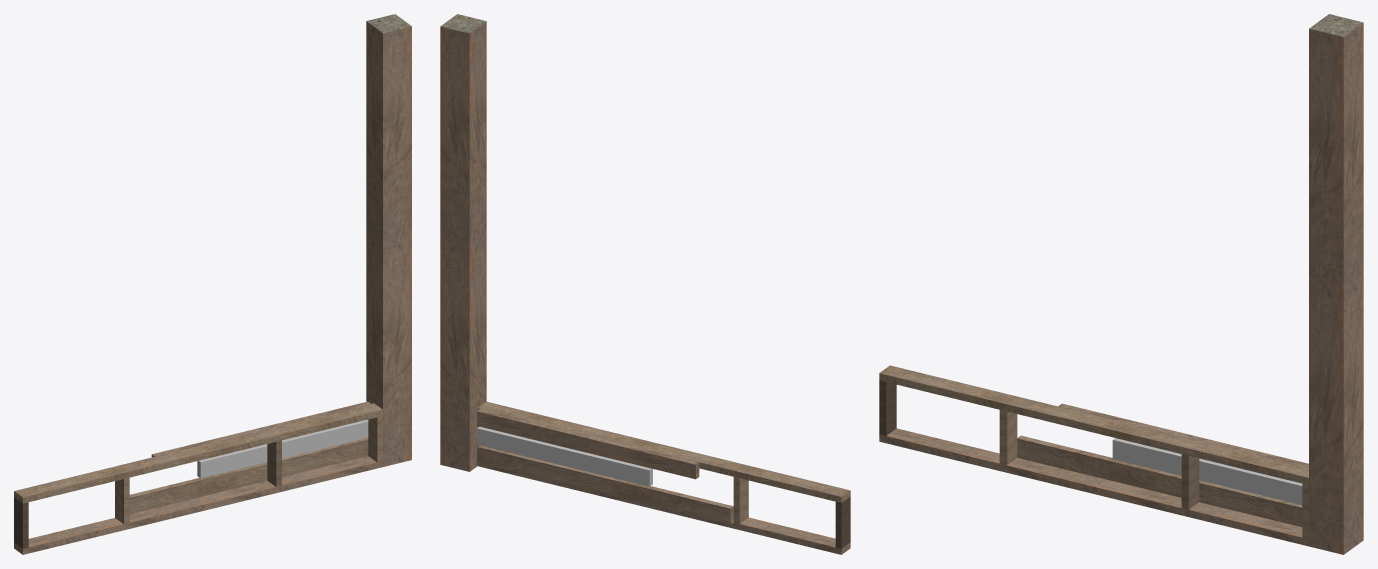
The model's file is WallFloorDividerDestroyA.fbx.
The picture shows the model from 3 angles, left to right: view 1: azimuth 30°, elevation 25°; view 2: azimuth 150°, elevation 25°; view 3: azimuth 330°, elevation 25°; orthographic projection. The views are drawn at different scales.
Parts seen in each view (by area): view 1: WallFloorDividerDestroyA; view 2: WallFloorDividerDestroyA; view 3: WallFloorDividerDestroyA.
Boxes of the visible parts, <box> form: WallFloorDividerDestroyA: <box>14,14,411,554</box>; WallFloorDividerDestroyA: <box>440,14,850,554</box>; WallFloorDividerDestroyA: <box>879,14,1363,554</box>.
Bounding box in the file's own units: 404 × 431 × 30.09.
